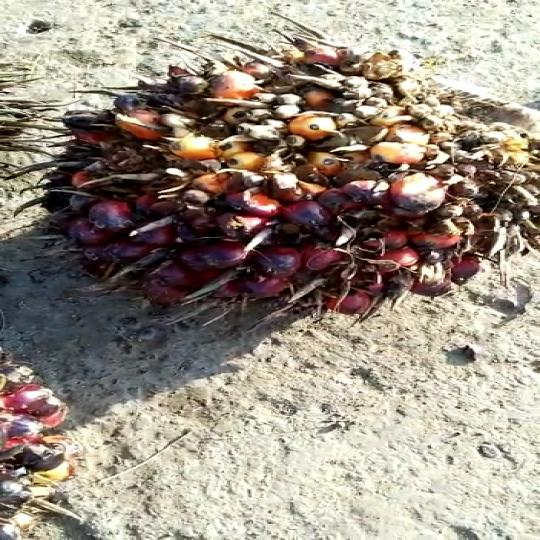masak: (38, 32, 540, 362)
